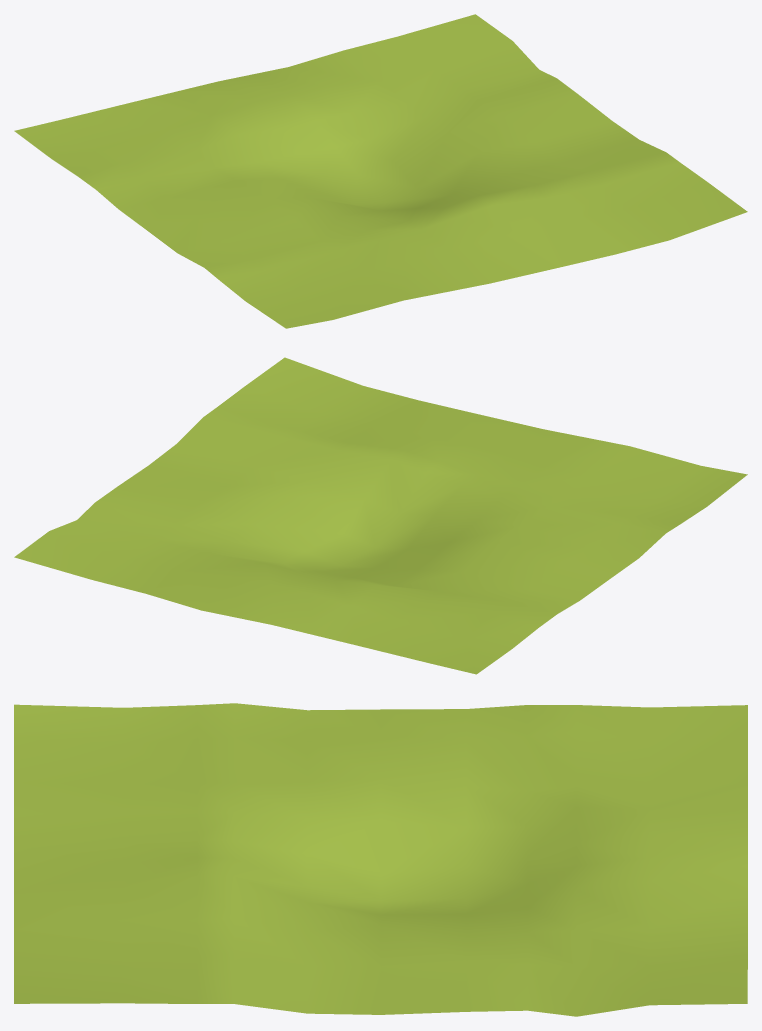
File: collider_boss_neg1.fbx
The picture shows the model from 3 angles, top to bottom: view 1: azimuth 30°, elevation 25°; view 2: azimuth 150°, elevation 25°; view 3: azimuth 270°, elevation 25°; orthographic projection. The views are drawn at different scales.
Parts seen in each view (by area): view 1: collider_bosse_neg1; view 2: collider_bosse_neg1; view 3: collider_bosse_neg1.
Boxes of the visible parts, left/top/right/bottom form: collider_bosse_neg1: left=14, top=14, right=747, bottom=328; collider_bosse_neg1: left=14, top=357, right=747, bottom=674; collider_bosse_neg1: left=14, top=703, right=747, bottom=1016.
Bounding box in the file's own units: 709 × 54.75 × 720.
